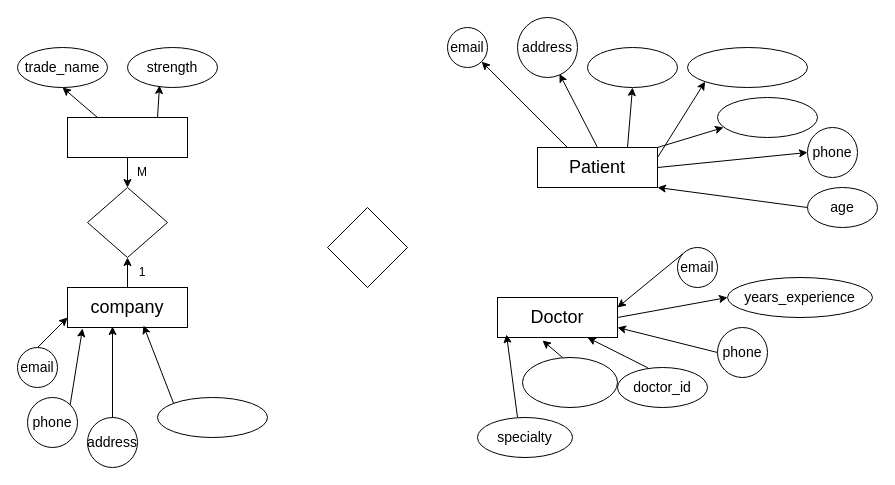
This 895x485 diagram has some shape labels left out. The centre of each missing label's shape, as x and y in pixels:
"company_name" belongs at point 212,417.
"doctor_name" belongs at point 570,382.
"Drugs" belongs at point 127,137.
"gives" belongs at point 367,247.
"have" belongs at point 127,222.
"medicare_card_num" belongs at point 747,67.
"patient_id" belongs at point 632,67.
"patient_name" belongs at point 767,117.
